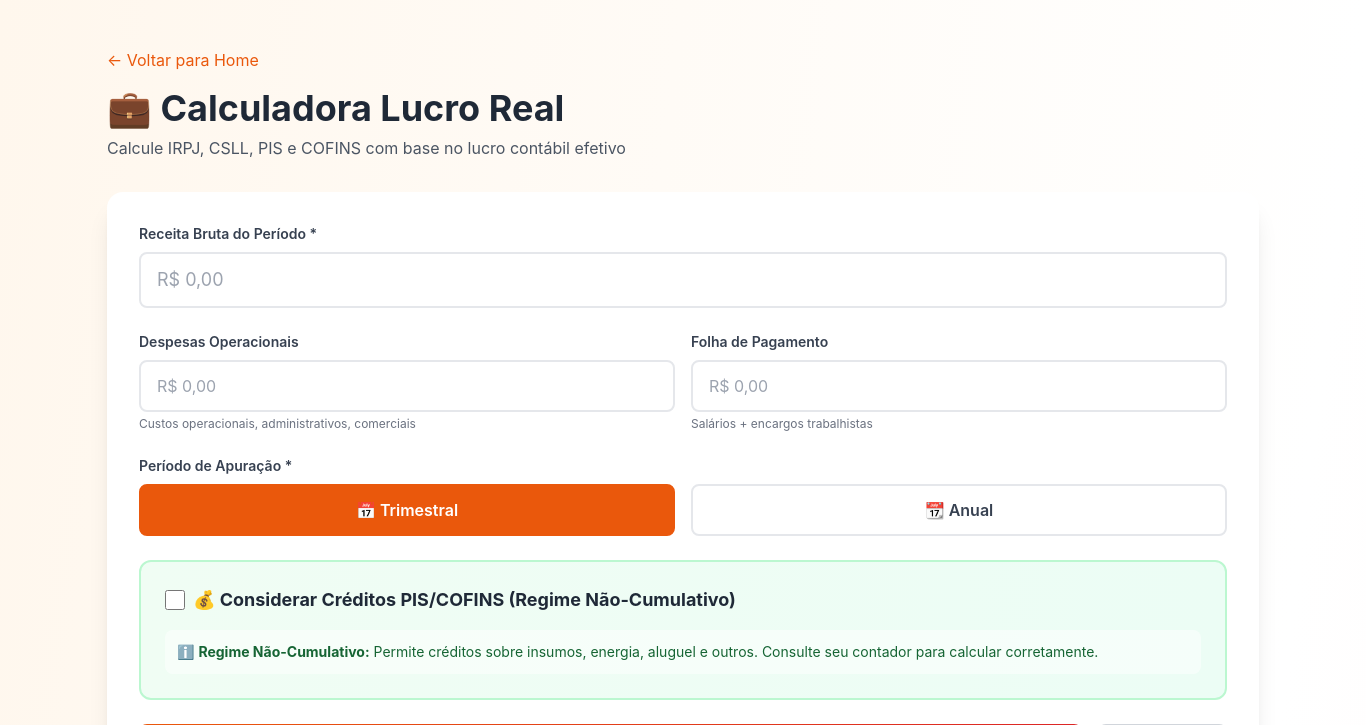
Test: CalculadoraReal - Calculadora de Lucro Real › Interações do Formulário › deve habilitar campos de créditos quando checkbox marcado
O usuário marca o checkbox de créditos
Click the checkbox labelled "💰 Considerar Créditos PIS/COFINS (Regime Não-Cumulativo)".
click(175, 600)  # box [165,590,185,610]
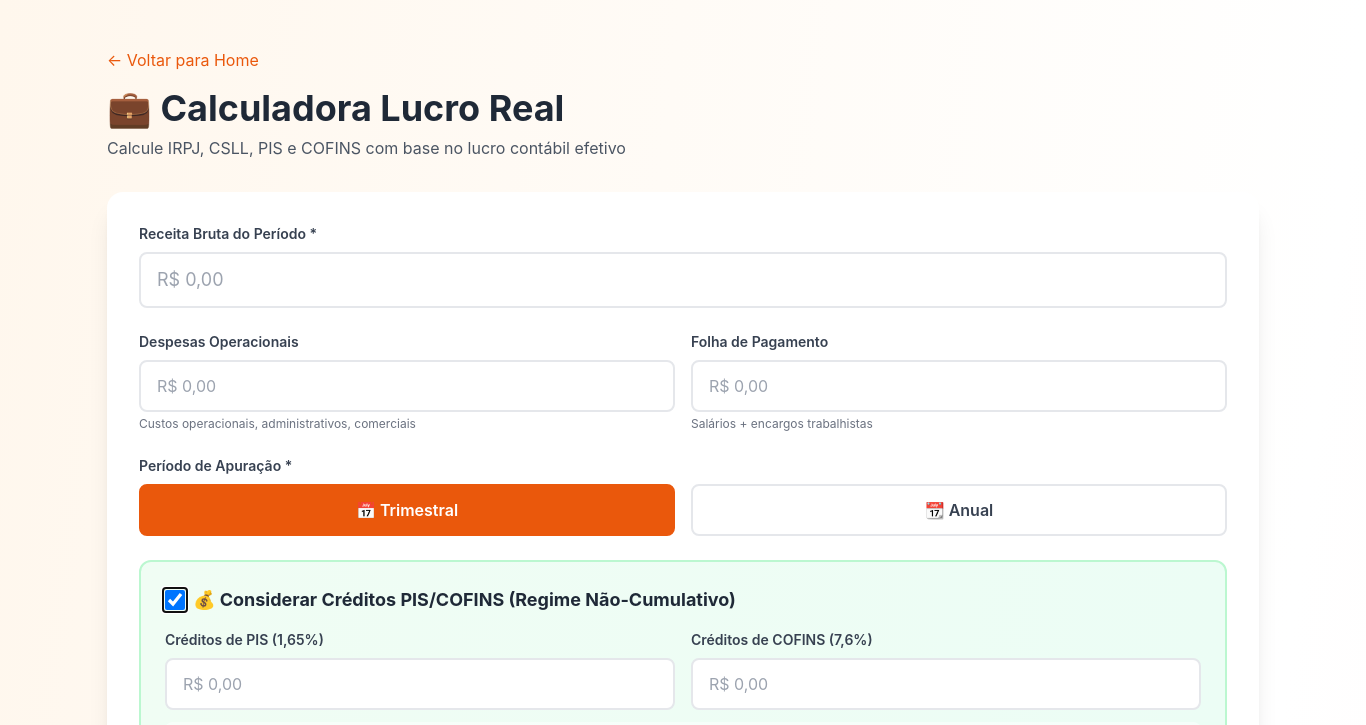
Expected: the text "Créditos de PIS (1,65%)" is shown, [165,631,324,648]
Expected: the text "Créditos de COFINS (7,6%)" is shown, [691,631,873,648]
